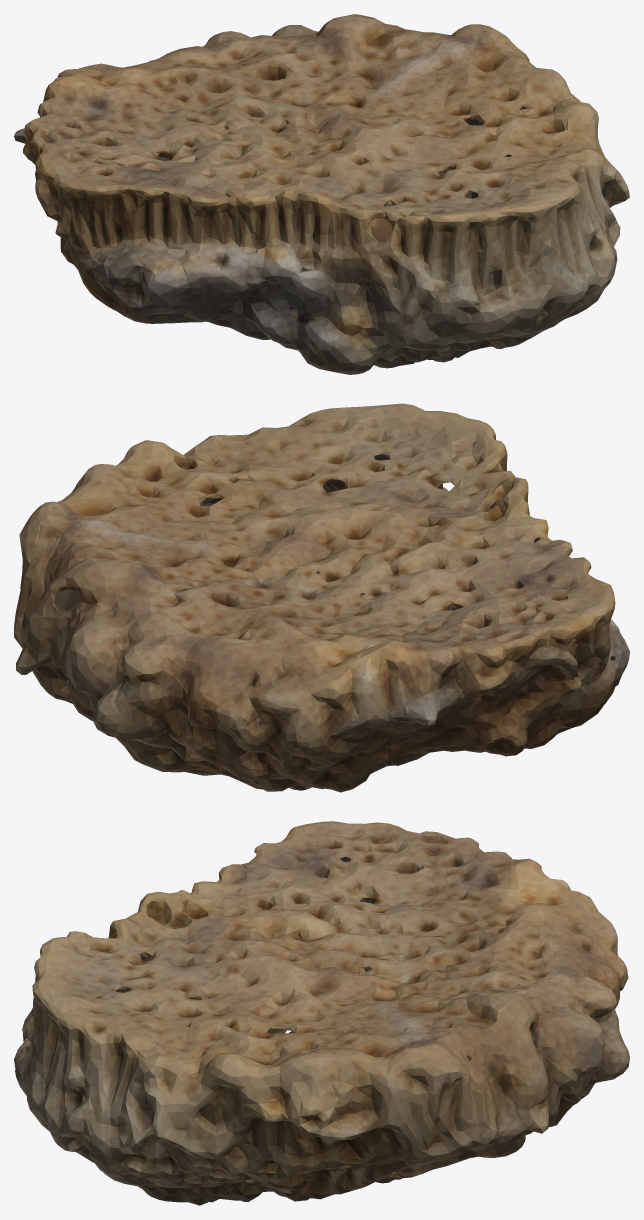
3 renders of one model, top to bottom at view 1: azimuth 30°, elevation 25°; view 2: azimuth 150°, elevation 25°; view 3: azimuth 270°, elevation 25°, orthographic. The views are drawn at different scales.
Visible parts, largest first — view 1: world; view 2: world; view 3: world.
Boxes of the visible parts, <box> form: world: <box>14,14,629,374</box>; world: <box>14,403,629,792</box>; world: <box>14,821,629,1205</box>.
Size of the model in its own units: 0.8075 by 0.3228 by 0.8222.
1 material, 1 textured.
